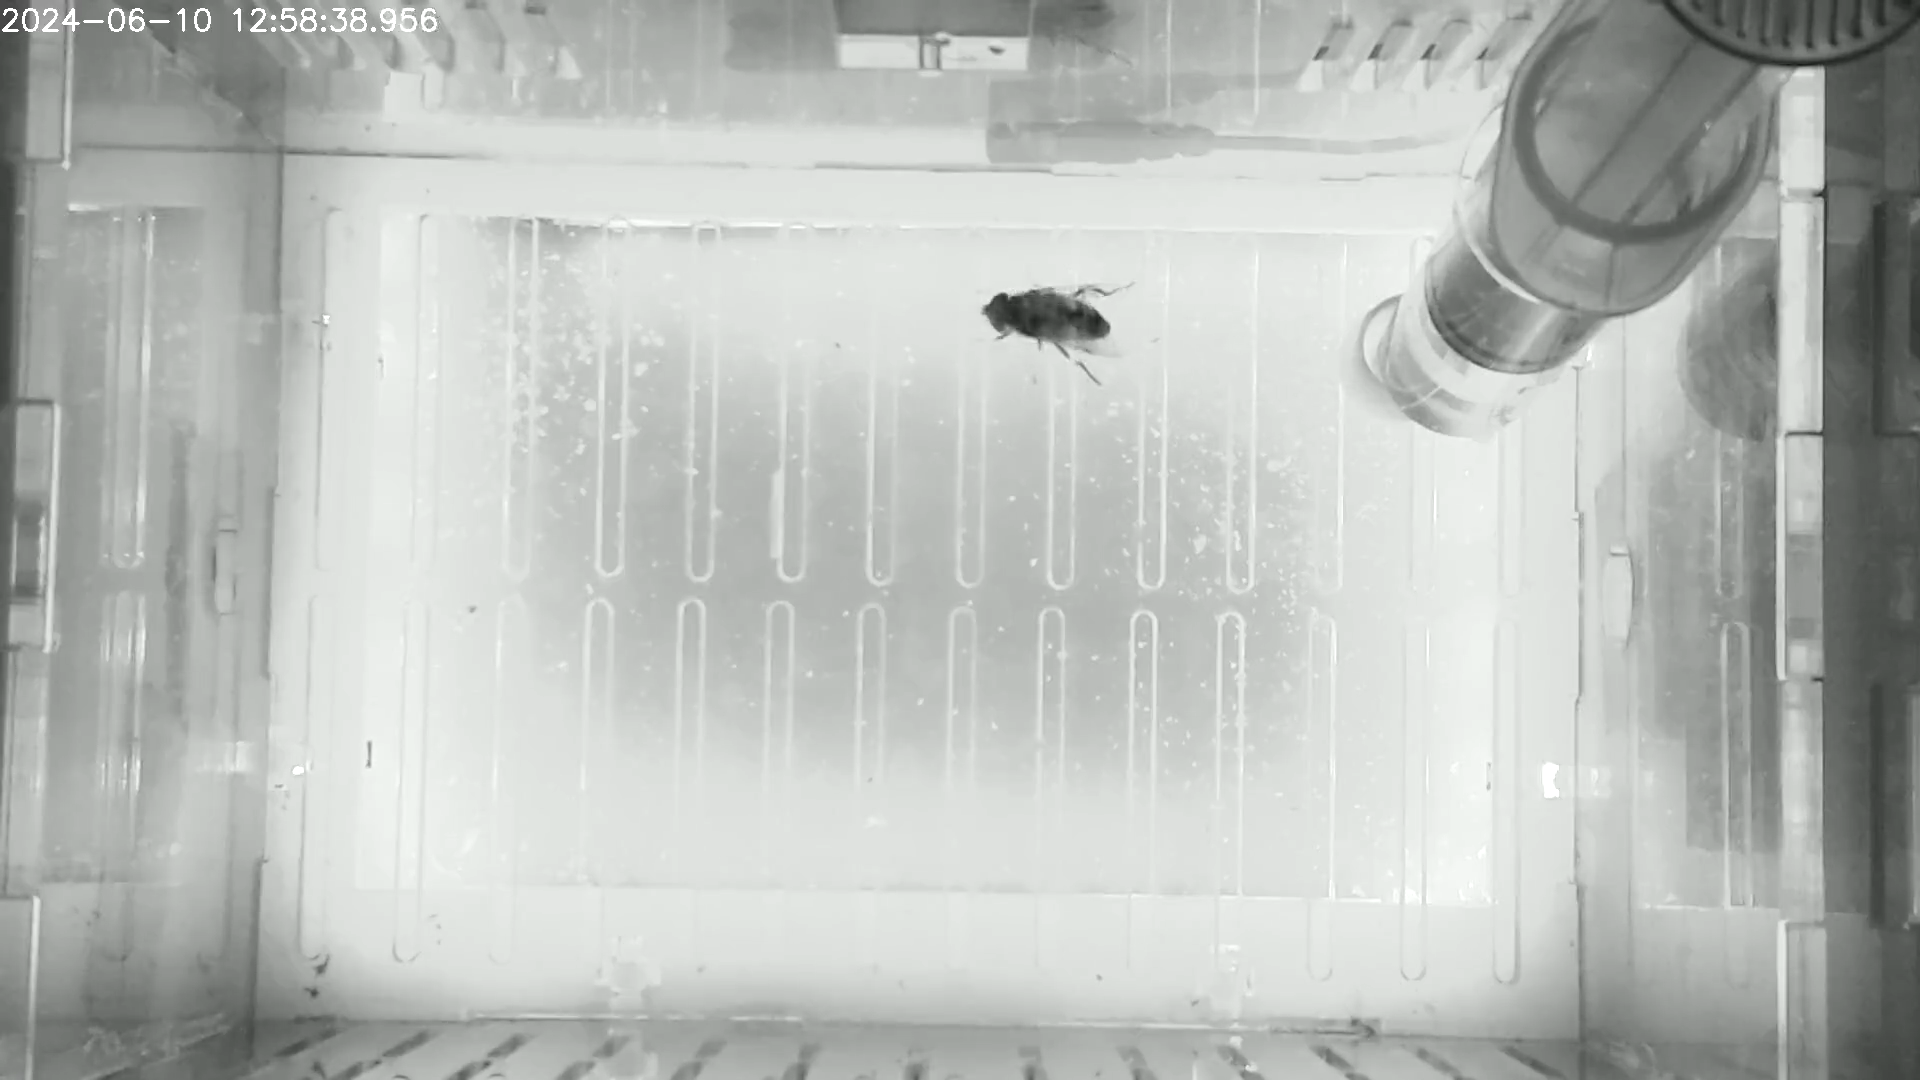bee: (969, 267, 1140, 396)
feeder: (1375, 195, 1614, 445)
